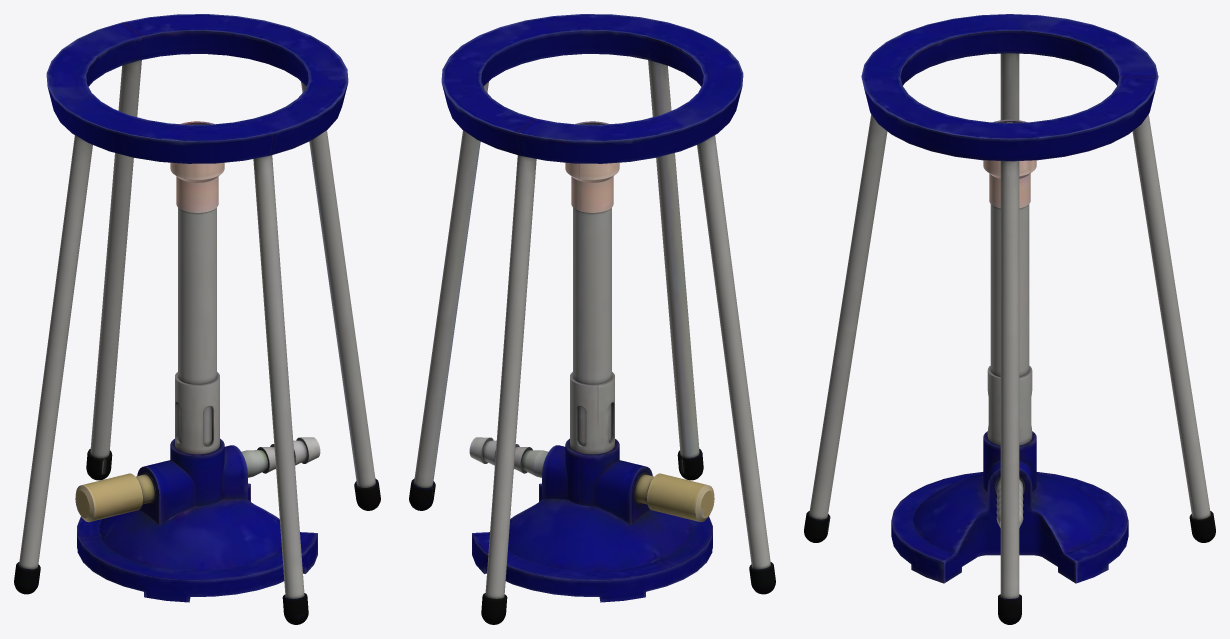
The model's file is bunsen_burner.glb.
3 views of the same model, side by side, from view 1: azimuth 30°, elevation 25°; view 2: azimuth 150°, elevation 25°; view 3: azimuth 270°, elevation 25° (orthographic).
Parts seen in each view (by area): view 1: bunsen_burner; view 2: bunsen_burner; view 3: bunsen_burner.
Boxes of the visible parts, x1,y1,x2,y2 form: bunsen_burner: [14, 14, 380, 624]; bunsen_burner: [409, 14, 775, 624]; bunsen_burner: [804, 14, 1215, 624].
Size of the model in its own units: 0.1389 by 0.1731 by 0.1389.
Materials: 1 (1 with a texture image).
